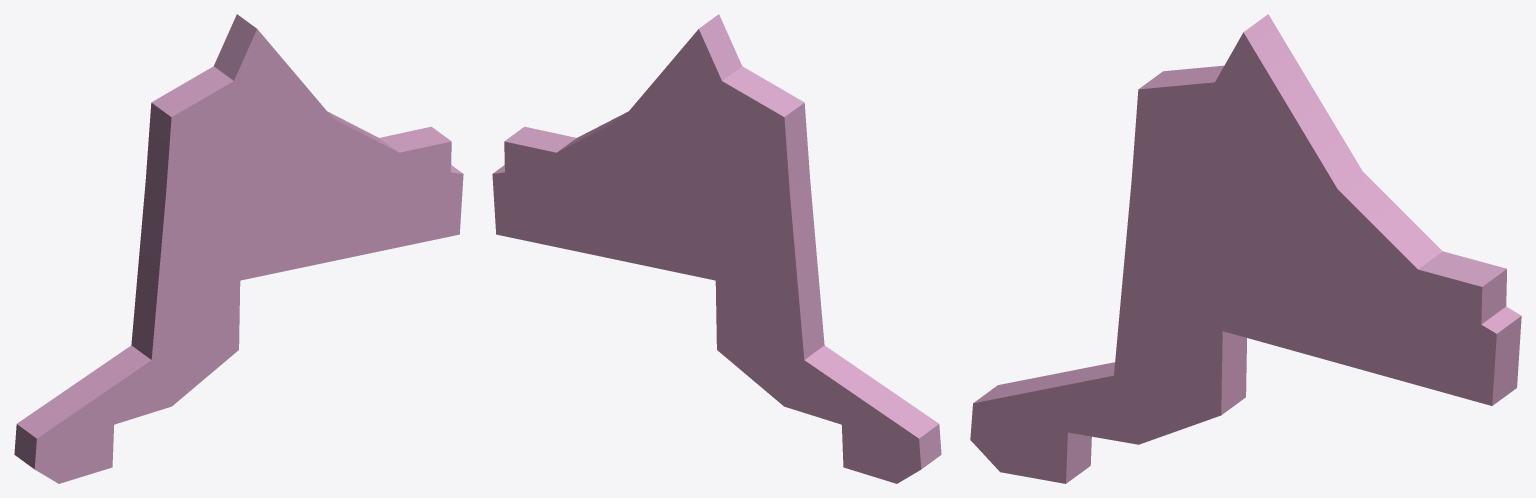
Rendered from SantaClara.fbx.
3 renders of one model, left to right at view 1: azimuth 30°, elevation 25°; view 2: azimuth 150°, elevation 25°; view 3: azimuth 330°, elevation 25°, orthographic. The views are drawn at different scales.
Visible parts, largest first — view 1: santa_clara; view 2: santa_clara; view 3: santa_clara.
Part boxes in pixels (x1=…): santa_clara: x1=14, y1=14, x2=463, y2=483; santa_clara: x1=492, y1=14, x2=941, y2=483; santa_clara: x1=970, y1=14, x2=1521, y2=483.
Size of the model in its own units: 97.84 by 88.67 by 8.
